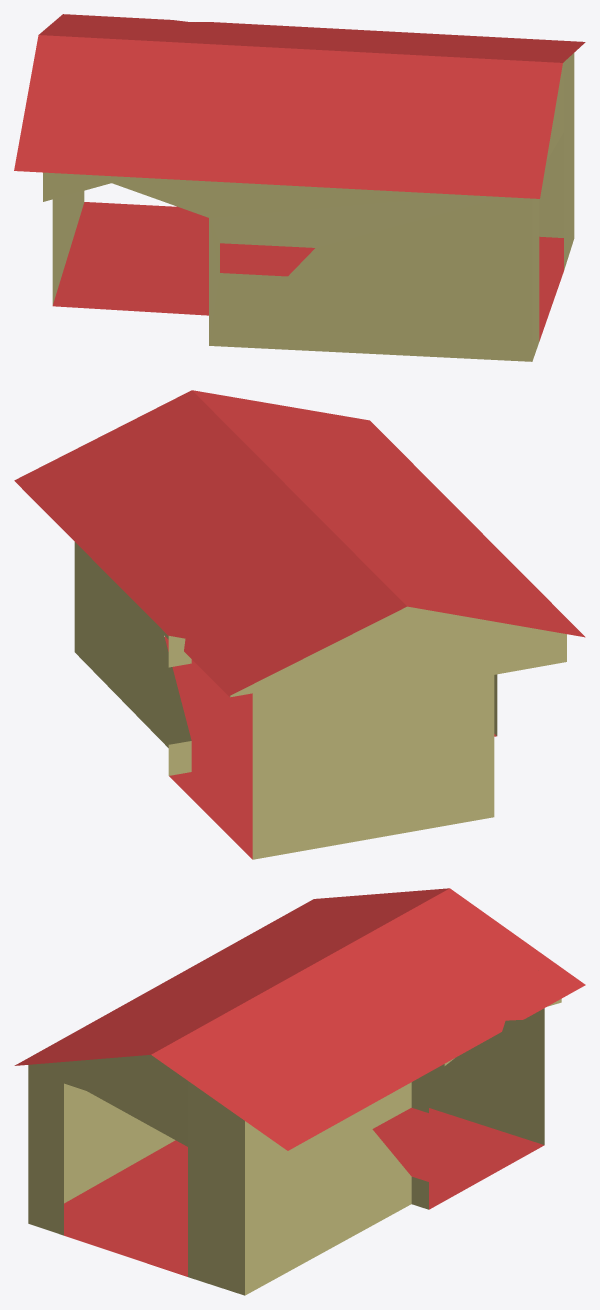
3 renders of one model, top to bottom at view 1: azimuth 30°, elevation 25°; view 2: azimuth 150°, elevation 25°; view 3: azimuth 270°, elevation 25°, orthographic. The views are drawn at different scales.
Bounding box in the file's own units: 32.88 × 31.19 × 12.81.
